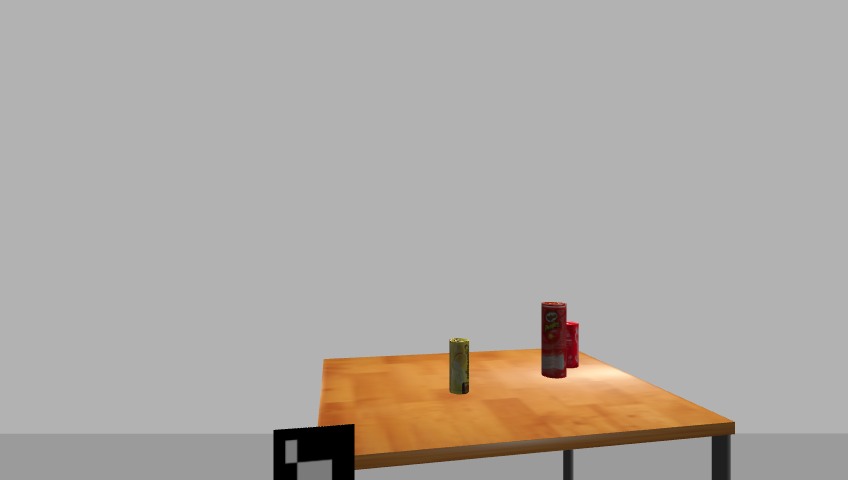aruco marker: (266, 423, 361, 480)
biscuits pack: (448, 338, 471, 396)
coke can: (562, 322, 582, 369)
dinner table: (310, 346, 743, 479)
pringles can: (539, 301, 567, 380)
